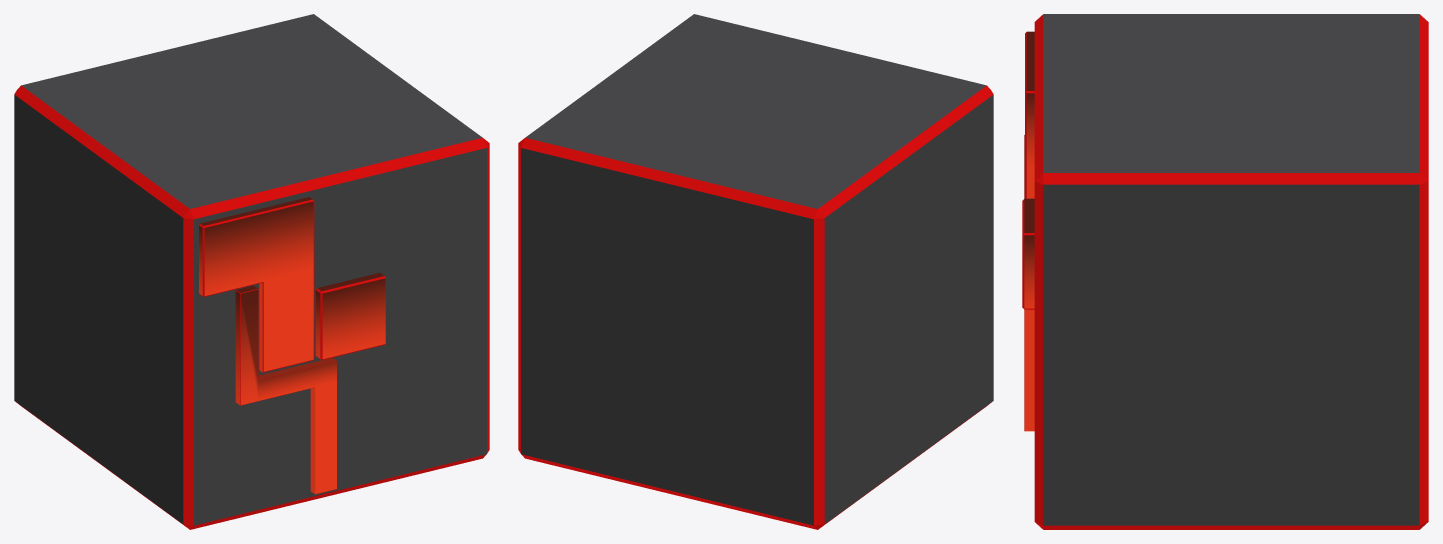
3 renders of one model, left to right at view 1: azimuth 30°, elevation 25°; view 2: azimuth 150°, elevation 25°; view 3: azimuth 270°, elevation 25°, orthographic. The views are drawn at different scales.
Visible parts, largest first — view 1: CyberPunkCubeShapeC.002; view 2: CyberPunkCubeShapeC.002; view 3: CyberPunkCubeShapeC.002.
Part boxes in pixels (x1=…): CyberPunkCubeShapeC.002: x1=14, y1=14, x2=489, y2=529; CyberPunkCubeShapeC.002: x1=518, y1=14, x2=993, y2=529; CyberPunkCubeShapeC.002: x1=1022, y1=14, x2=1428, y2=529.
Bounding box in the file's own units: 0.7683 × 0.7683 × 0.7918.
2 materials, 2 textured.
